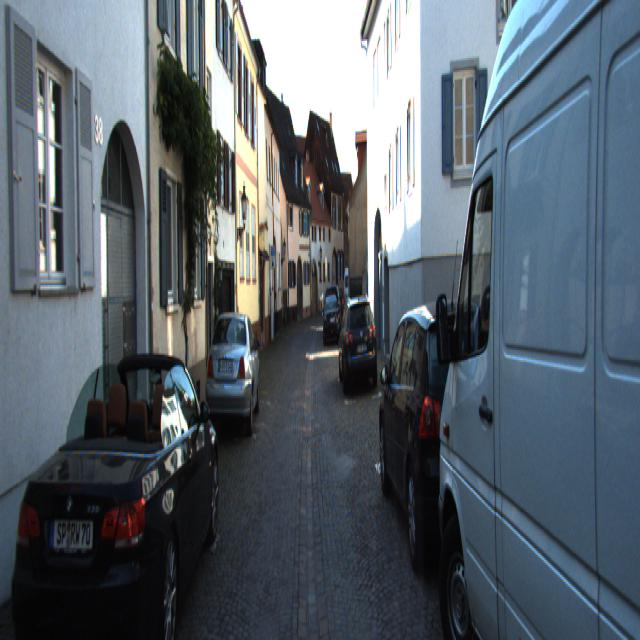Car: (427, 0, 610, 639), (0, 338, 222, 638), (377, 285, 518, 609), (204, 306, 260, 439), (338, 294, 378, 394), (344, 266, 364, 312), (323, 295, 340, 343)
